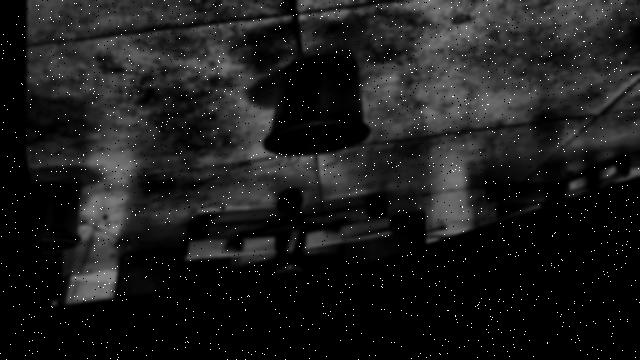pot: (264, 54, 369, 155), (32, 183, 80, 253)
